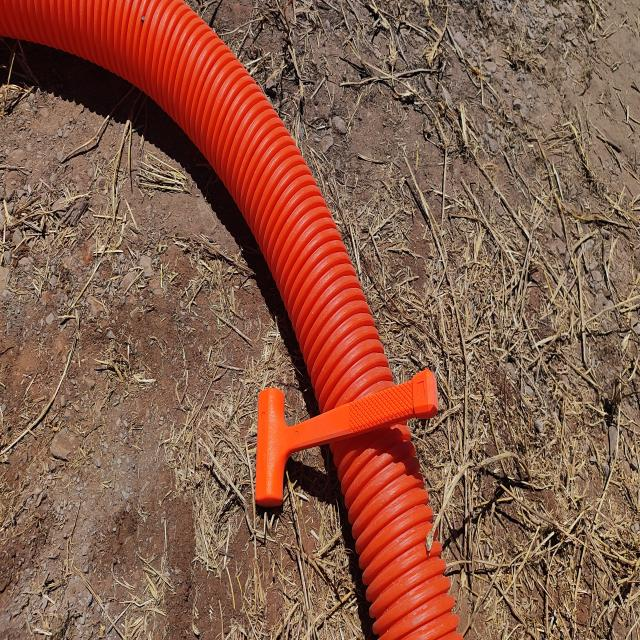Orange_hammer: (252, 368, 438, 513)
